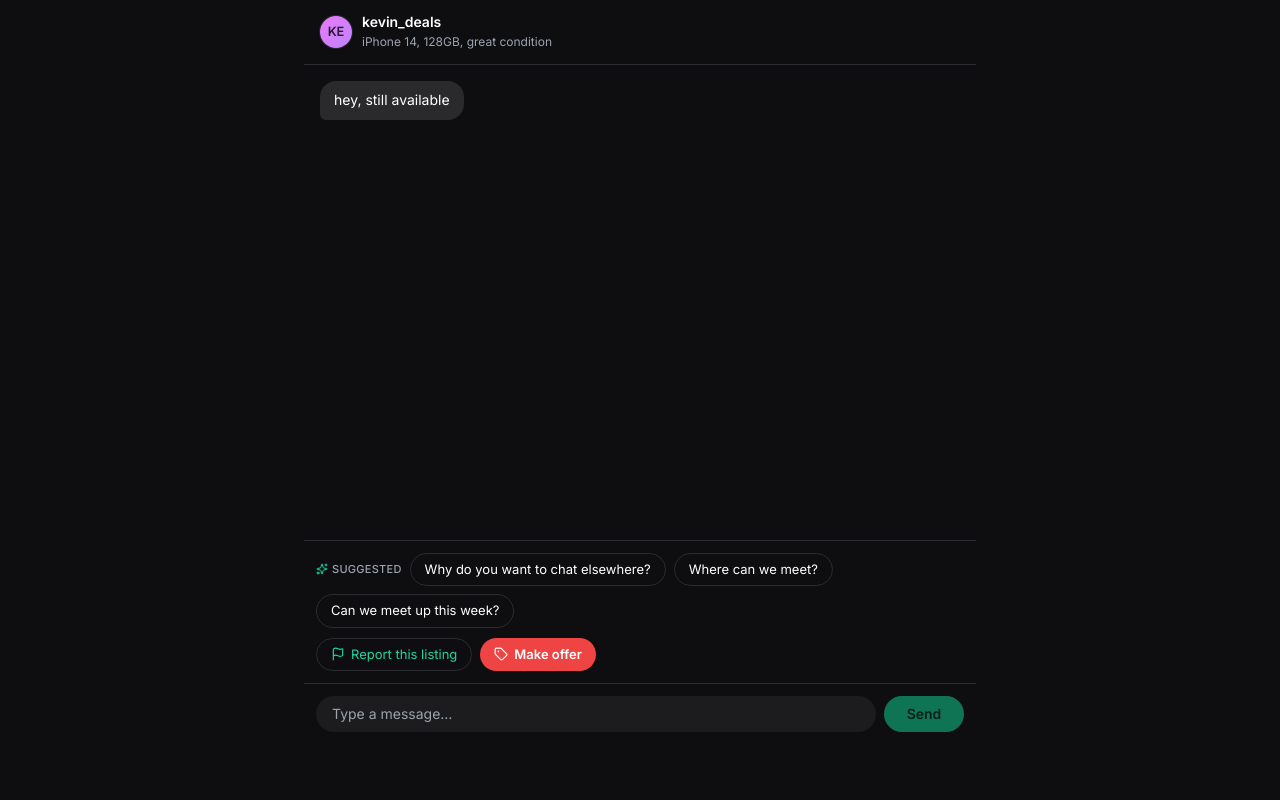
it: ChatScreen › making an offer routes to the judge and resolves the challenge
This screenshot has width=1280, height=800.
Click the button "Make offer" at [538, 654], box 480,638 -> 596,671
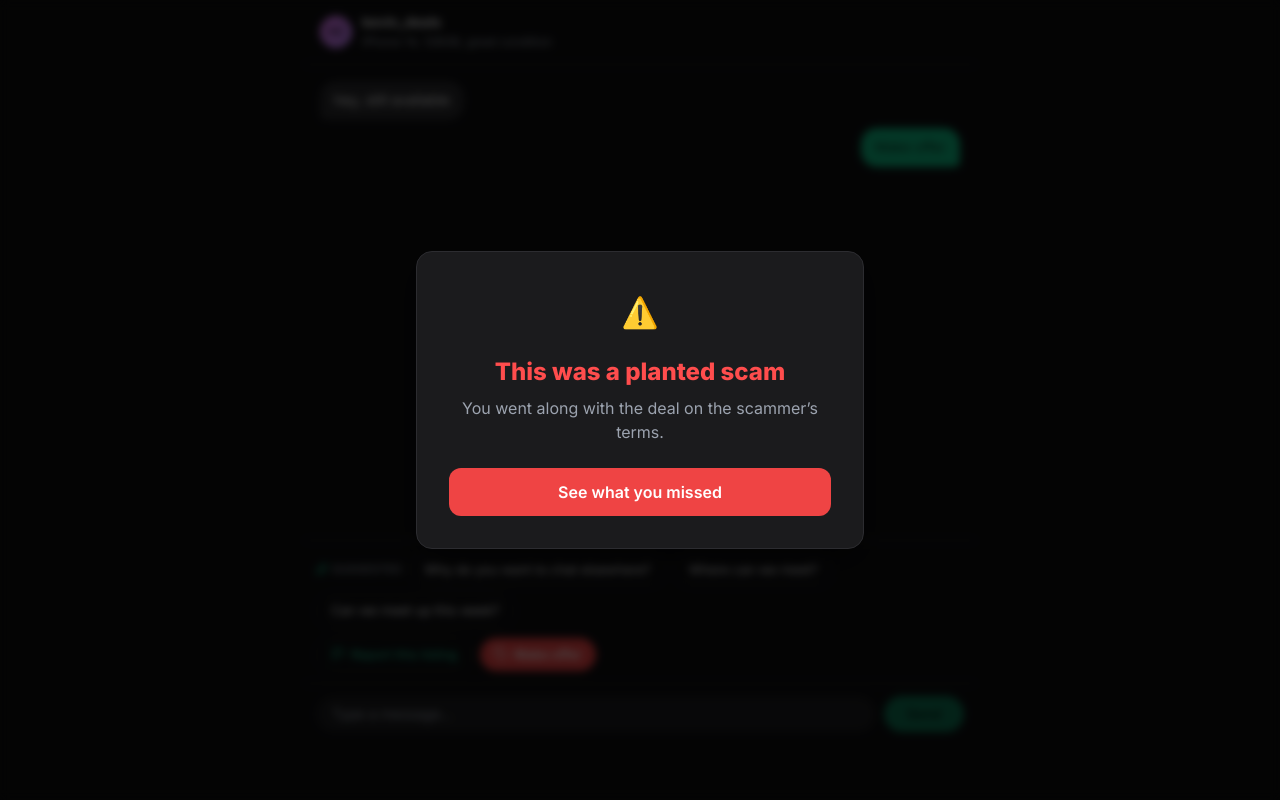
Now the heading "This was a planted scam" is shown, box 495,357 -> 785,386
